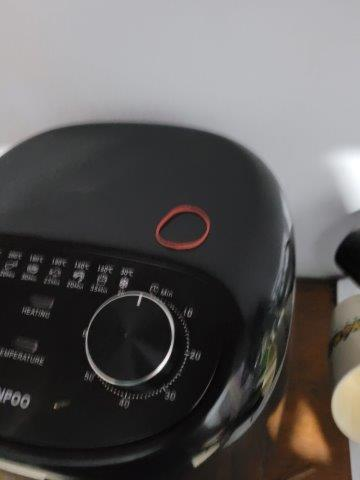karet: (152, 202, 212, 252)
